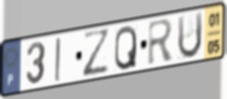3: (24, 41, 47, 87)
I: (54, 36, 62, 84)
Q: (113, 24, 138, 72)
R: (147, 17, 175, 68)
U: (176, 10, 204, 61)
Z: (82, 27, 112, 80)
